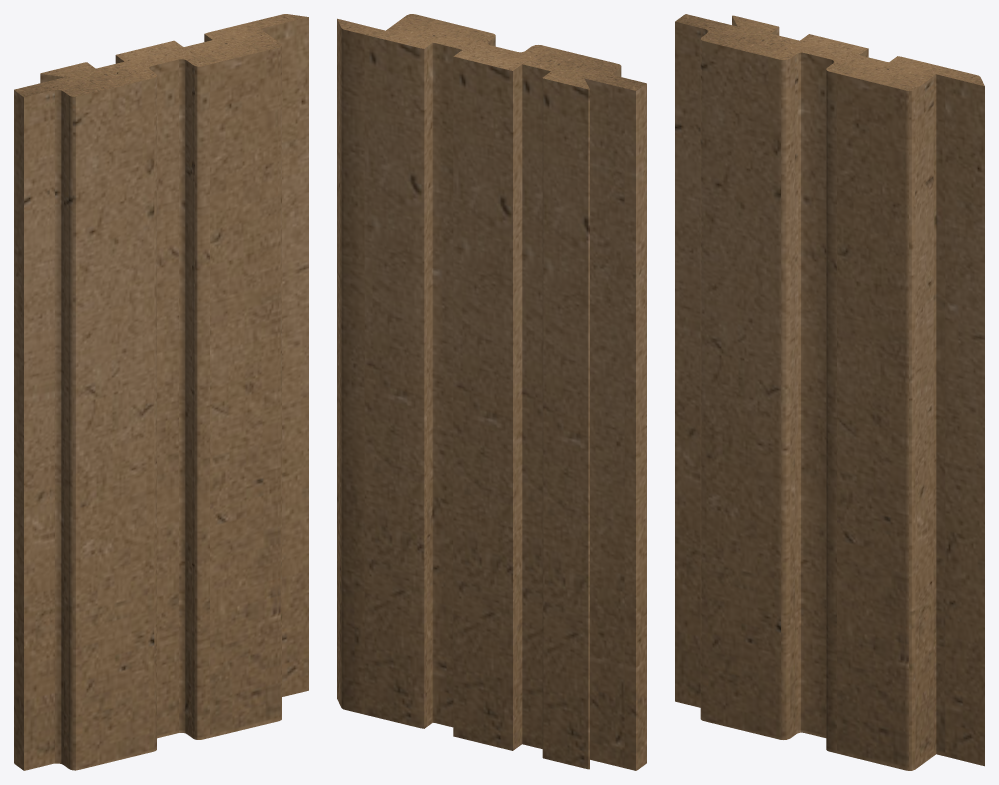
File: kopya.glb
3 views of the same model, side by side, from view 1: azimuth 30°, elevation 25°; view 2: azimuth 150°, elevation 25°; view 3: azimuth 330°, elevation 25° (orthographic).
Parts seen in each view (by area): view 1: root; view 2: root; view 3: root.
Boxes of the visible parts, <box> form: root: <box>14,14,308,770</box>; root: <box>337,14,646,770</box>; root: <box>675,14,984,770</box>.
Size of the model in its own units: 0.092 by 0.2 by 0.018.
2 materials, 2 textured.
